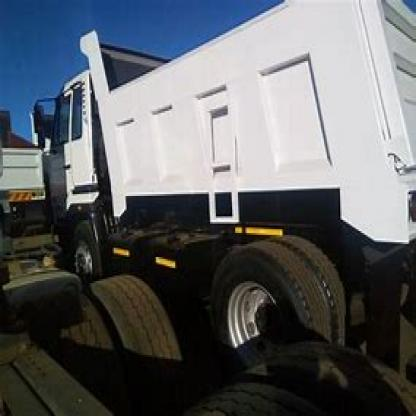dump_truck: (29, 7, 415, 370)
